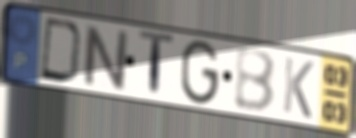B: (233, 47, 279, 116)
D: (39, 14, 85, 87)
G: (178, 38, 222, 108)
K: (281, 54, 317, 122)
N: (83, 22, 130, 94)
T: (137, 28, 177, 102)
